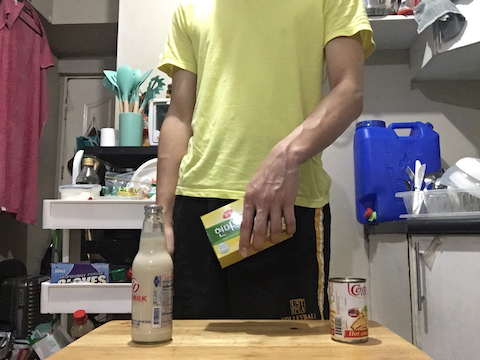bottle: (128, 201, 179, 347)
box: (199, 194, 295, 269)
can: (327, 274, 371, 344)
grab: (235, 171, 300, 261)
